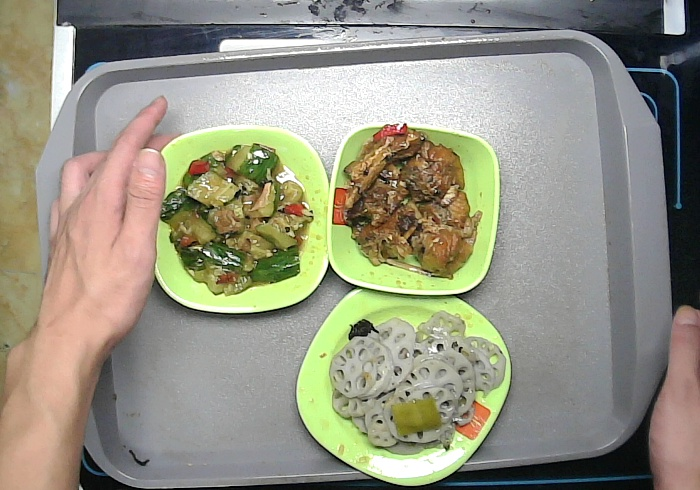SHKJ-Lv_Se_Cai_Die: (142, 123, 331, 318)
SHKJ-Lv_Se_Si_Fang_Cai_Die: (292, 281, 514, 490)
SHKJ-Lv_Se_Xiao_Fang_Die: (325, 121, 504, 298)
